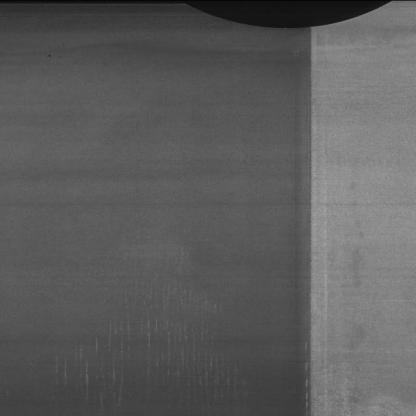welding_line: (296, 20, 332, 415)
